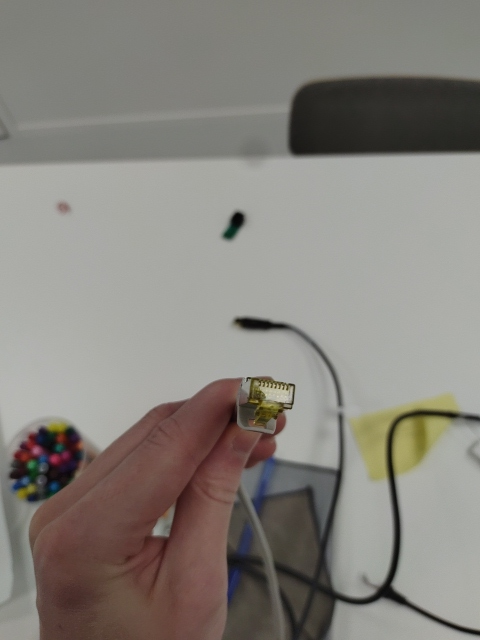Ethernet: (238, 377, 296, 427)
